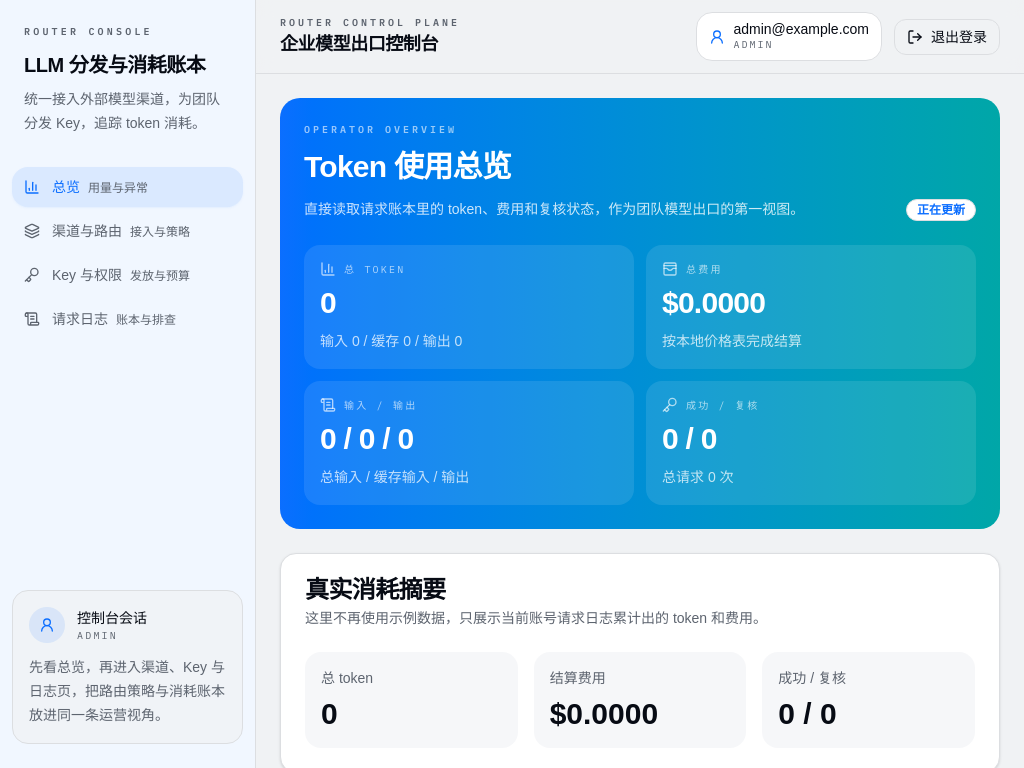
it: app router auth flow › lets authenticated users log out from the console shell
Expected: the heading "Token 使用总览" is shown, left=304, top=150, right=511, bottom=183
Expected: the text "admin@example.com" is shown, left=733, top=21, right=869, bottom=37
Click the button "退出登录". click: click(947, 36)
box: left=894, top=18, right=1000, bottom=54
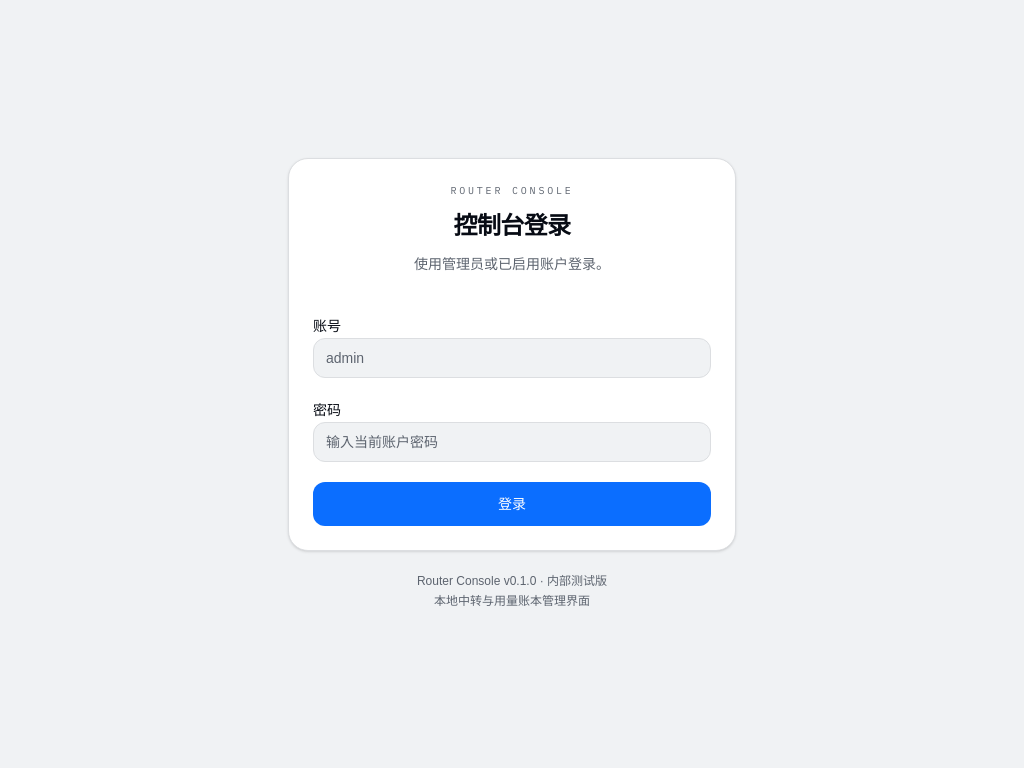
Expected: the heading "控制台登录" is shown, left=454, top=212, right=570, bottom=238
